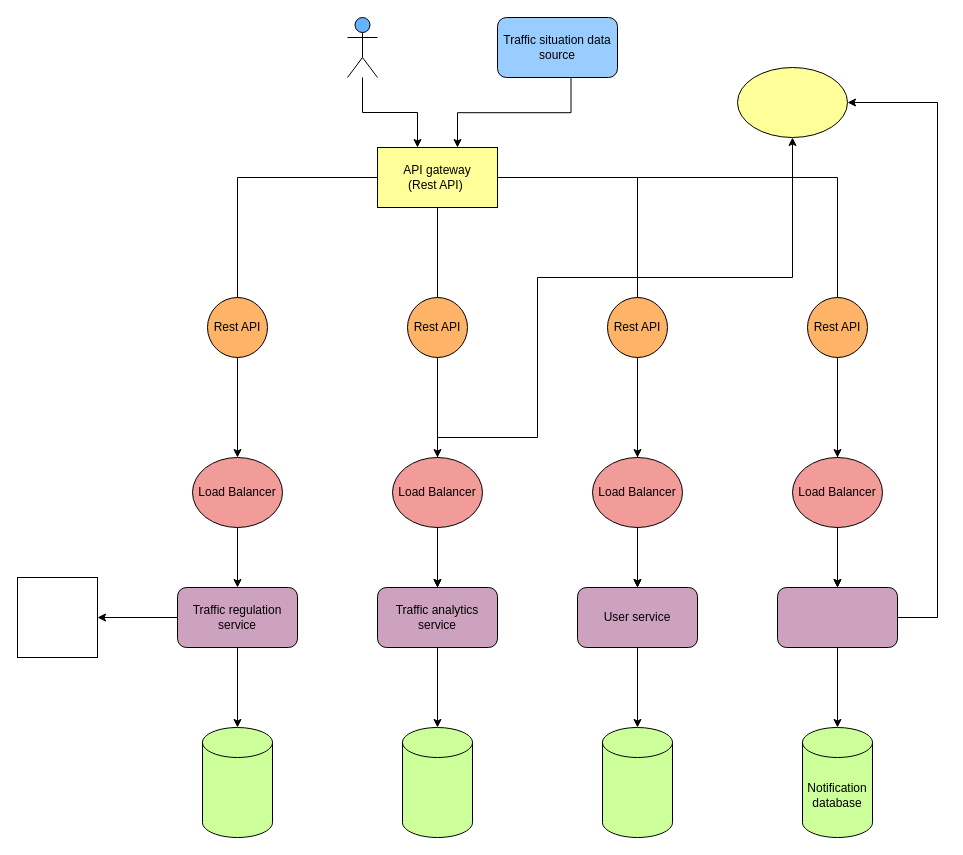
Image size: 963x855. Some labels were removed from this diagram. Here are the shapes that lost their labels. From the top down, the centre of each, then its label:
the point at 362,47: User
the point at 792,102: Service discovery
the point at 57,617: Traffic lights
the point at 837,617: Notification service
the point at 237,782: Traffic regulation database
the point at 437,782: Trafic analytics database
the point at 637,782: User database
